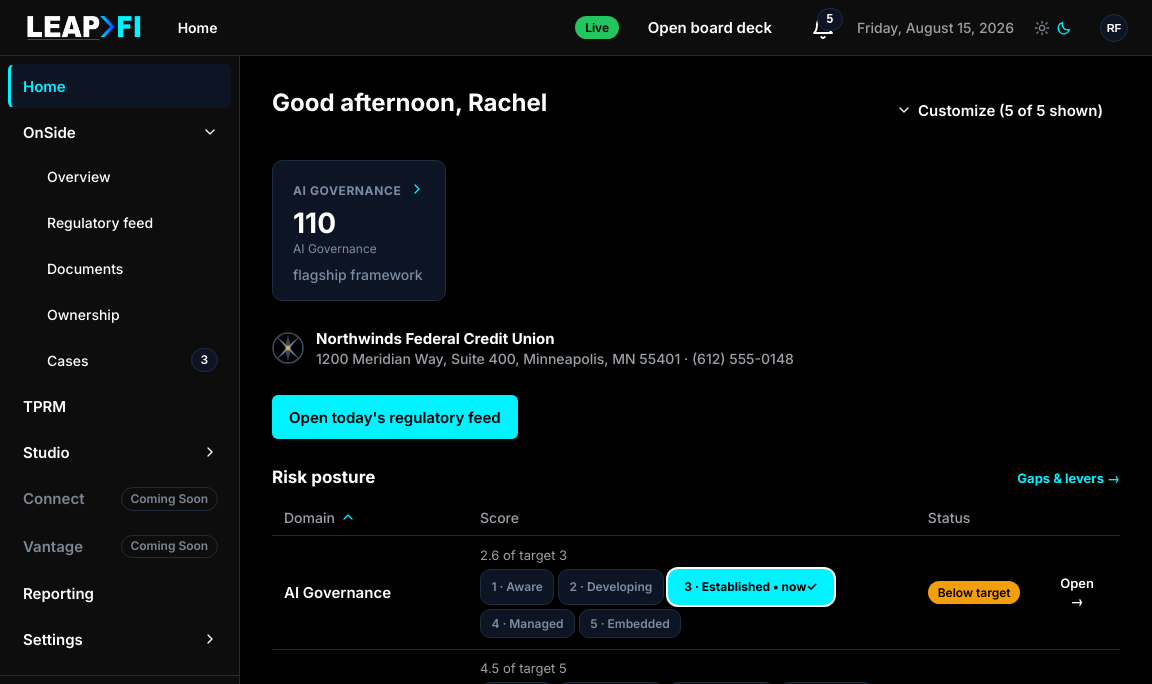
Scenario: OnSide nested default-expanded (PI2-D33: OnSide is defaultExpanded:true; header stays, children stay nested, no top-level promotion) › pressing OnSide collapses the already-open group, and pressing again re-expands it (base sidebar nesting toggle, §(b) L2 gesture)
# Already expanded on load (PI2-D33) — first press collapses it.
Click the button "OnSide". click: (120, 132)
box: [8,110,231,154]
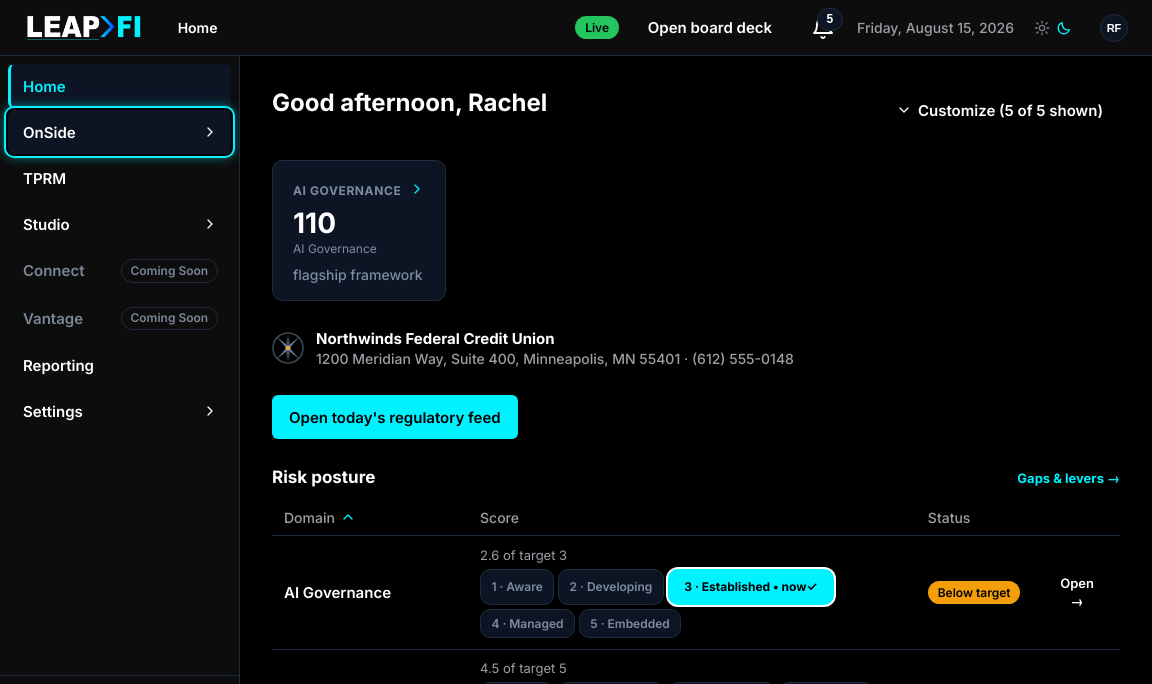
Now the button "OnSide" is collapsed
Click the button "OnSide". click: (120, 132)
box: [8,110,231,154]
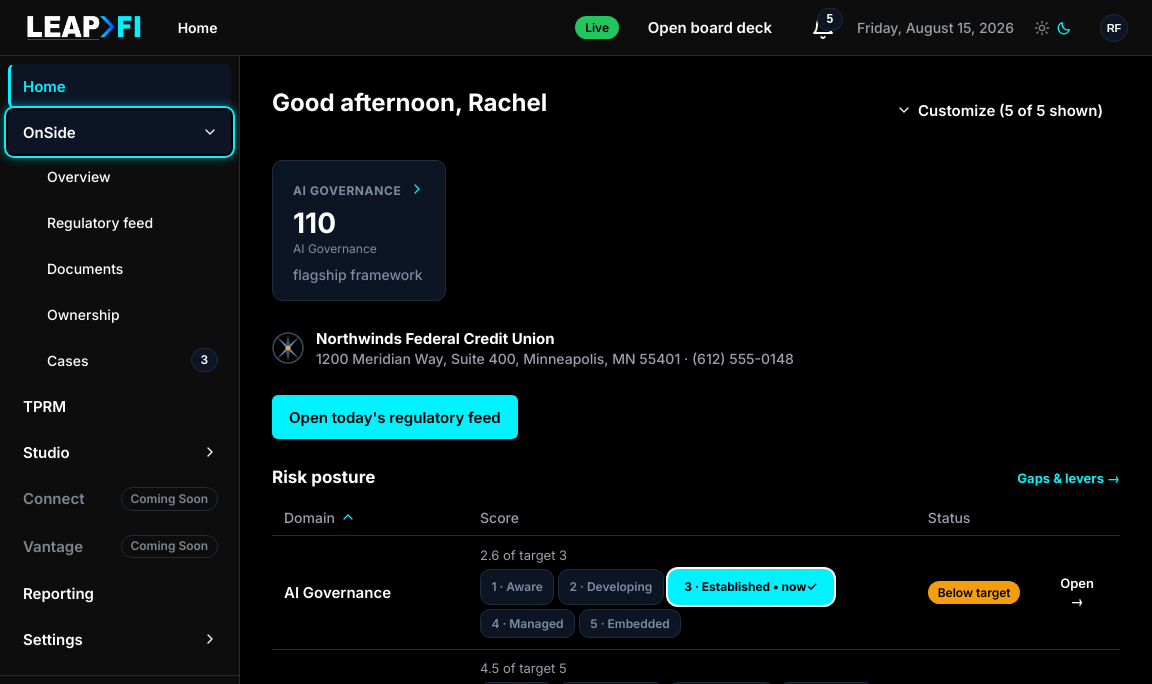
Now the button "OnSide" is expanded, box [8,110,231,154]
Now the button "Regulatory feed" is shown, box [8,200,231,244]
